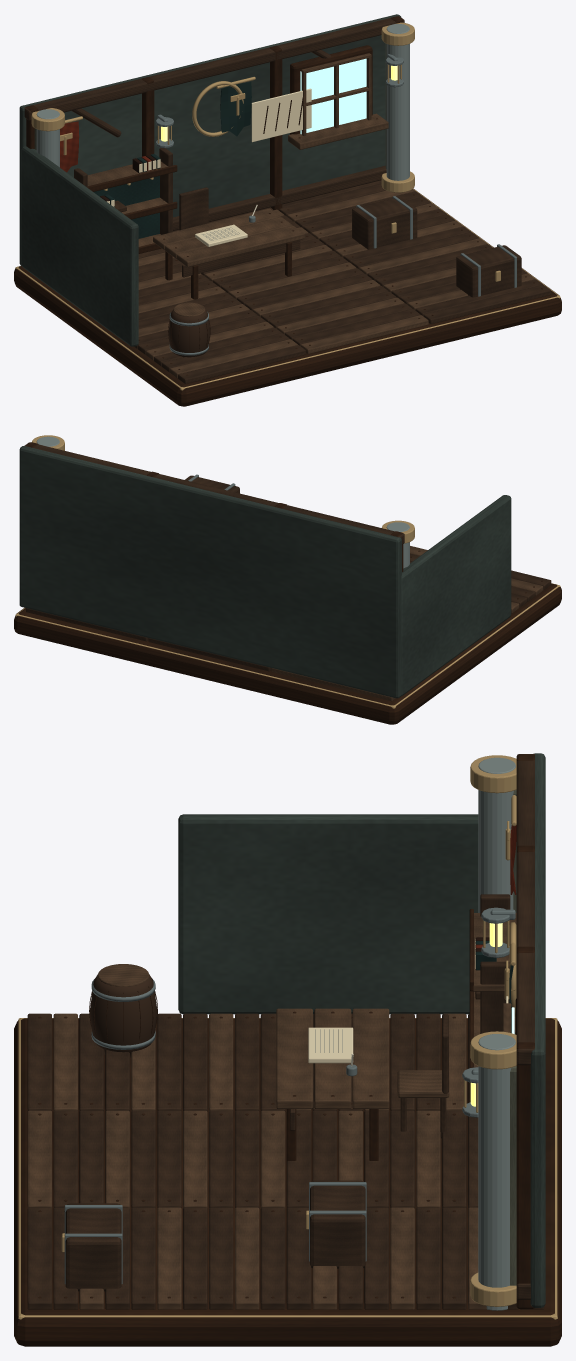
File: room-smith.glb
3 views of the same model, one above another, from view 1: azimuth 30°, elevation 25°; view 2: azimuth 150°, elevation 25°; view 3: azimuth 270°, elevation 25° (orthographic). The views are drawn at different scales.
Visible parts, largest first — view 1: Part_Oak honey.005, Part_Sage plaster.002, Part_Oak cut edge, Part_Oak end grain.002, Part_Charcoal slate.006, Part_Old parchment, Part_Window sky, Part_House teal.006, Part_Oak honey.007, Part_Aged brass.009, Part_Aged brass.013, Part_Blackened iron.014 (+1 smaller); view 2: Part_Sage plaster.002, Part_Oak end grain.002, Part_Oak honey.005, Part_Aged brass.013, Part_Oak cut edge, Part_Charcoal slate.006, Part_Aged brass.009; view 3: Part_Oak honey.005, Part_Sage plaster.002, Part_Oak cut edge, Part_Oak end grain.002, Part_Charcoal slate.006, Part_Oak honey.007, Part_Aged brass.013, Part_Aged brass.009, Part_Blackened iron.014, Part_Carved limestone.004, Part_Old parchment, Part_Blackened iron.005.
Boxes of the visible parts, x1,y1,x2,y2 form: Part_Oak honey.005: (24,16,551,383); Part_Sage plaster.002: (19,14,401,346); Part_Oak cut edge: (87,53,534,377); Part_Oak end grain.002: (14,16,561,406); Part_Charcoal slate.006: (36,24,409,180); Part_Old parchment: (139,88,311,246); Part_Window sky: (300,58,366,134); Part_House teal.006: (93,82,251,238); Part_Oak honey.007: (456,245,521,297); Part_Aged brass.009: (31,22,414,192); Part_Aged brass.013: (15,76,560,390); Part_Blackened iron.014: (155,114,412,355); Part_Sage plaster.002: (19,445,511,698); Part_Oak end grain.002: (14,442,561,724); Part_Oak honey.005: (25,442,551,671); Part_Aged brass.013: (15,583,560,708); Part_Oak cut edge: (271,546,543,701); Part_Charcoal slate.006: (36,436,409,568); Part_Aged brass.009: (32,435,414,543); Part_Oak honey.005: (27,754,544,1309); Part_Sage plaster.002: (178,753,545,1307); Part_Oak cut edge: (27,913,516,1309); Part_Oak end grain.002: (14,754,561,1346); Part_Charcoal slate.006: (478,757,515,1310); Part_Oak honey.007: (65,1203,121,1291); Part_Aged brass.013: (18,920,557,1319); Part_Aged brass.009: (470,755,516,1306); Part_Blackened iron.014: (91,907,515,1261); Part_Carved limestone.004: (510,790,516,1285); Part_Old parchment: (308,939,508,1063); Part_Blackened iron.005: (64,1205,122,1284).
Bounding box in the file's own units: 7.2 × 3.31 × 5.5.
Materials: 15 (8 with a texture image).
